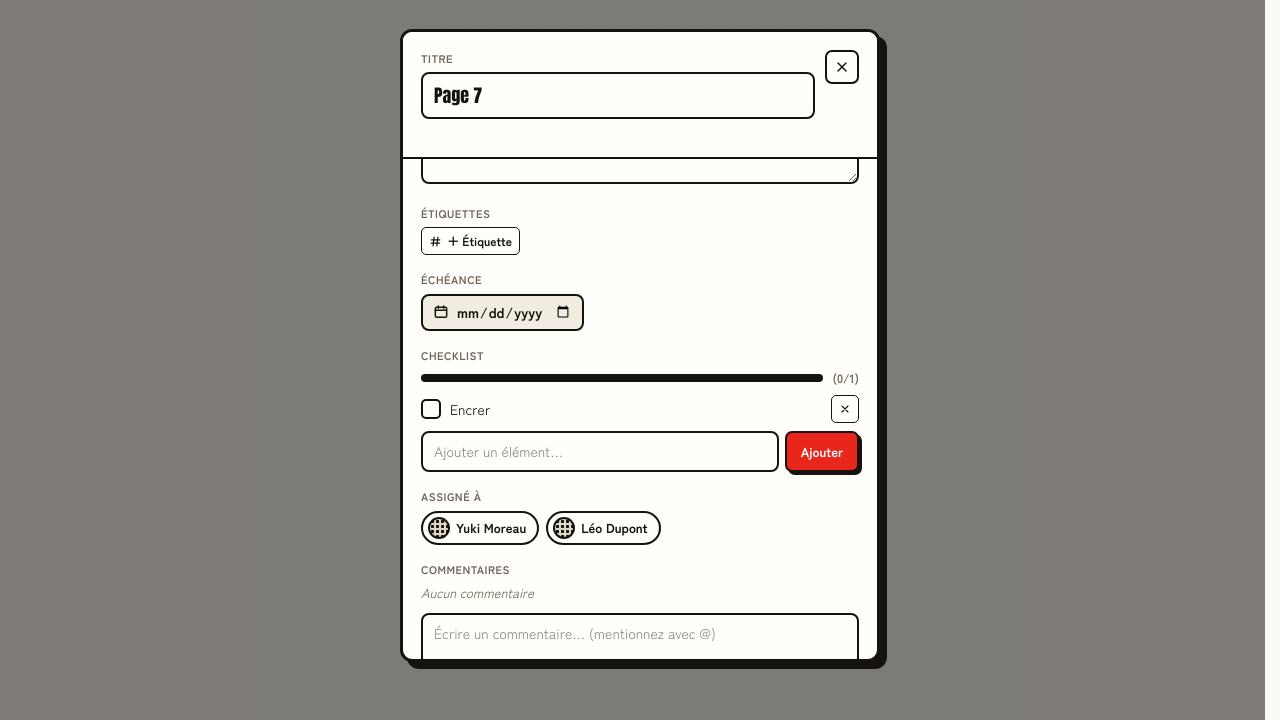
Test: CardModal › toggles a checklist item optimistically and updates the (x/x) count
(page scrolled)
expect the field labelled "TITRE" is shown: met, box [421,72,815,119]
expect the text "(0/1)" is shown: met, box [832,369,859,387]
Click the checkbox labelled "Encrer" at (456, 409), box [421,399,490,419]
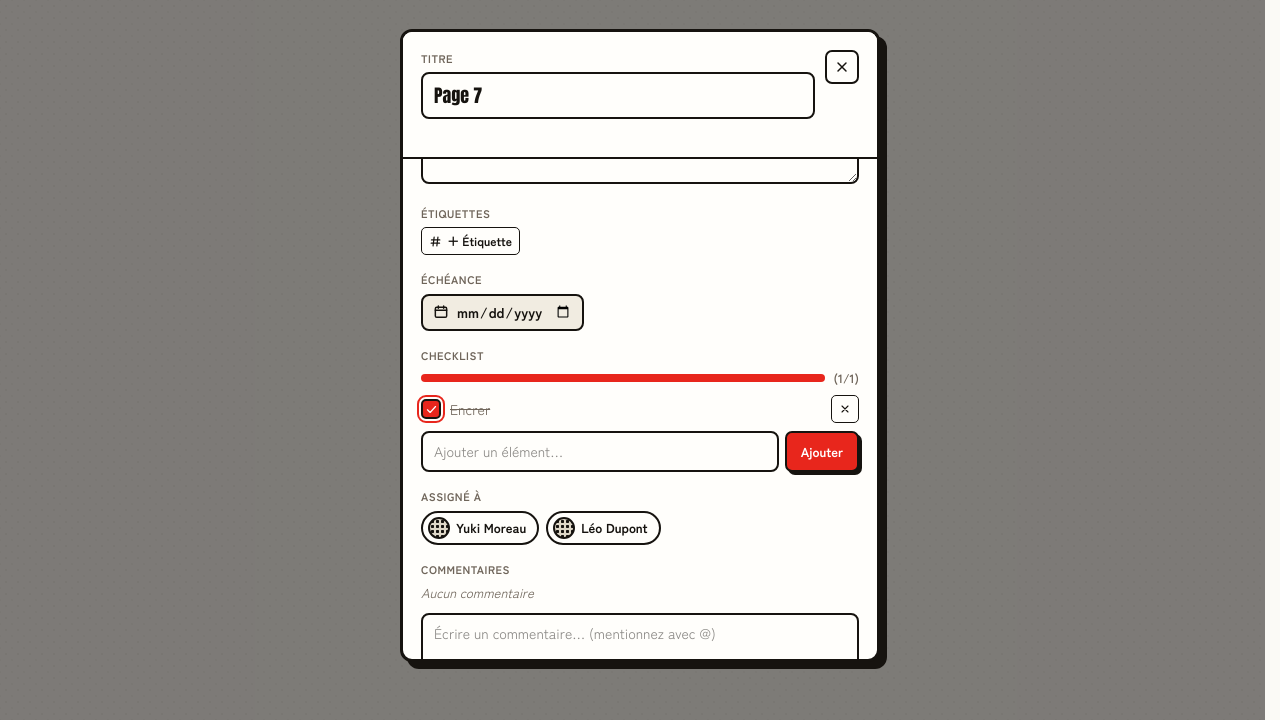
expect the text "(1/1)" is shown: met, box [834,369,859,387]
